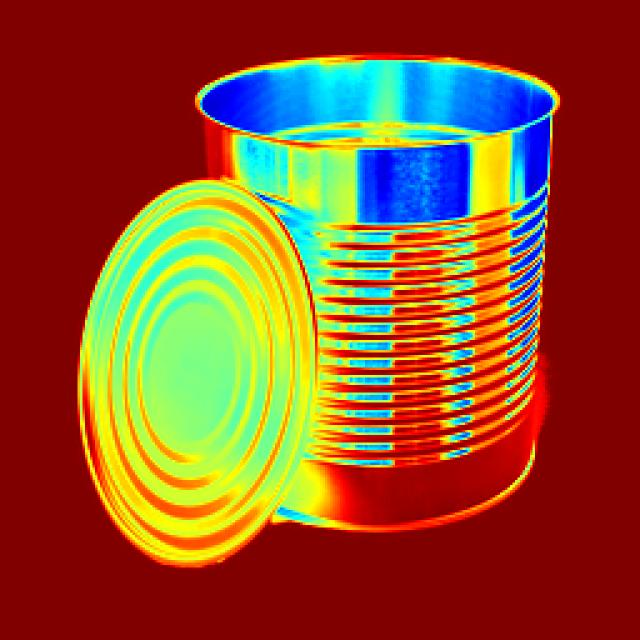Aluminium Food Cans: (75, 60, 587, 573)
